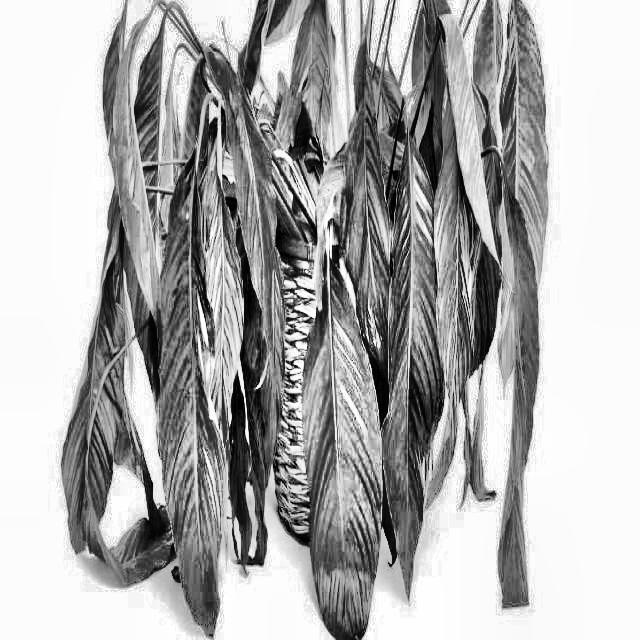plants: (83, 0, 558, 604)
